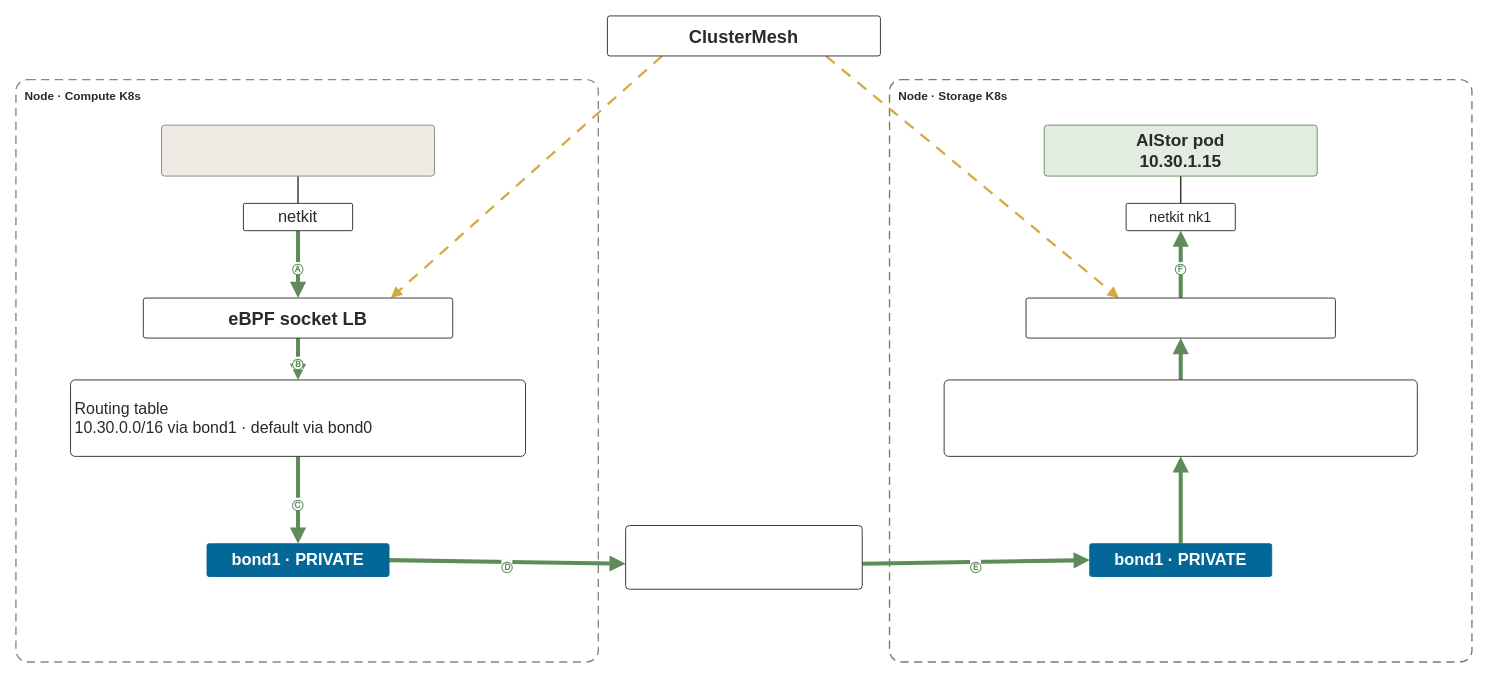
Image size: 1489x679. Some labels were removed from this diagram. Here are the shapes that lost their labels. From the top down, the centre of each, then its label:
At (x=298, y=150): "ETL client pod 10.10.4.21".
At (x=1180, y=317): "eBPF host routing".
At (x=1180, y=417): "Routing table 10.10.0.0/16 via bond1 · default via bond0".
At (x=743, y=557): "Fabric VRF PRIVATE".
